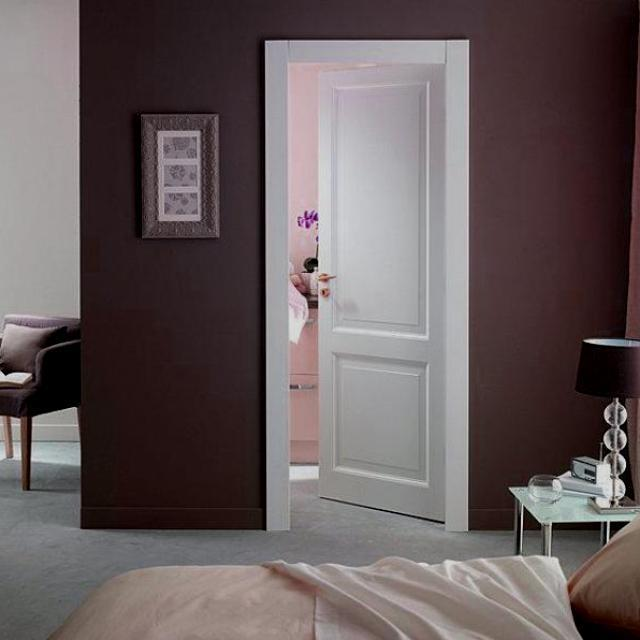door: (315, 66, 447, 522)
